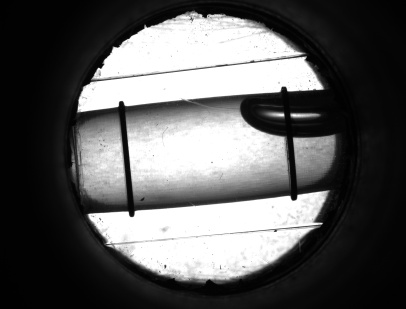line: (115, 121, 137, 195), (279, 142, 303, 182)
